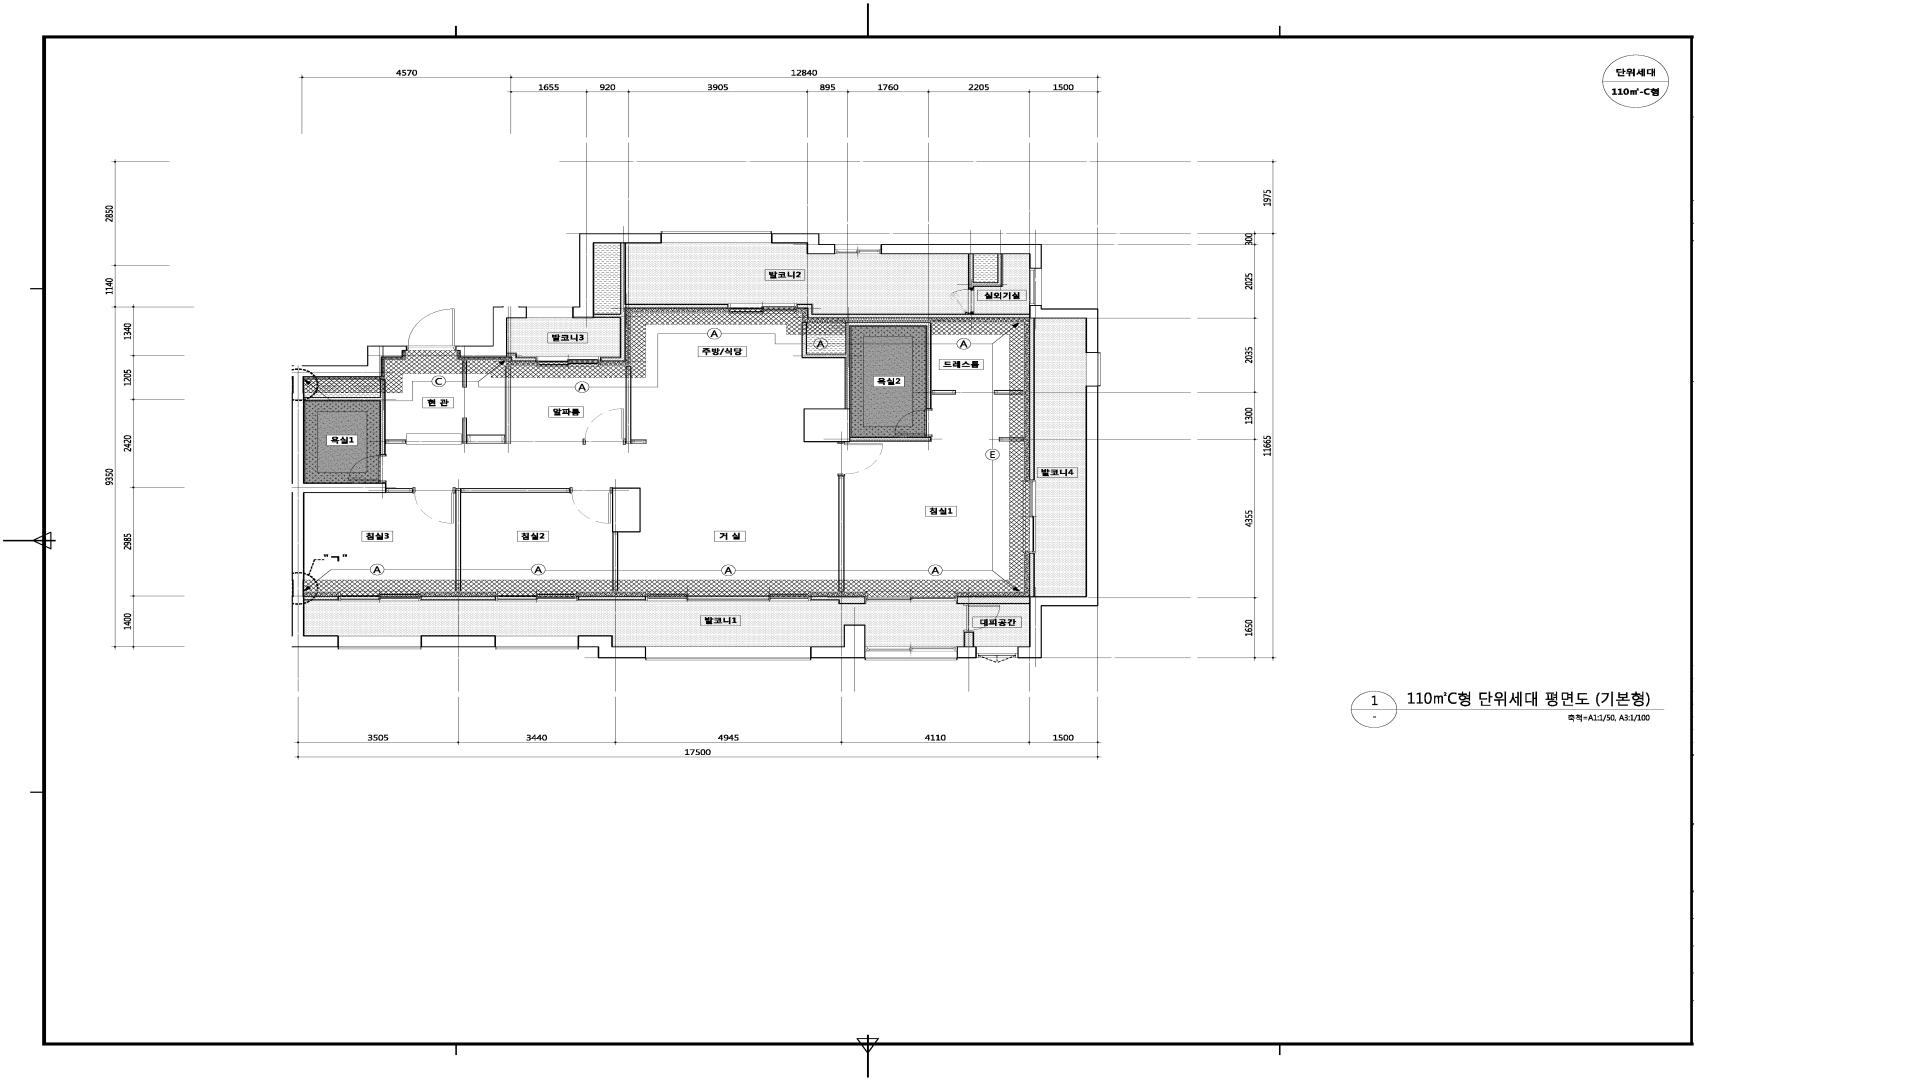door: (407, 309, 456, 351), (837, 442, 884, 476), (413, 487, 455, 524), (570, 487, 612, 524), (583, 409, 626, 444), (894, 409, 932, 438), (348, 454, 386, 483), (951, 287, 975, 314), (976, 653, 1018, 663)
wall: (291, 345, 407, 647), (1018, 386, 1098, 658), (593, 244, 728, 361), (802, 322, 932, 442), (455, 488, 570, 592), (572, 233, 661, 318), (305, 378, 386, 455), (881, 244, 1042, 269), (463, 367, 512, 444), (455, 306, 527, 356), (796, 303, 1029, 318), (1029, 305, 1098, 352), (612, 488, 641, 591), (811, 625, 865, 658), (625, 365, 646, 444), (579, 636, 645, 658), (771, 233, 835, 255), (968, 255, 1004, 287), (1029, 319, 1035, 480), (421, 636, 496, 647), (839, 476, 844, 592), (957, 596, 1029, 604), (811, 596, 865, 604), (421, 596, 496, 601), (578, 596, 646, 601), (1029, 553, 1035, 596), (506, 353, 537, 361), (957, 646, 976, 658), (305, 596, 339, 601), (964, 632, 975, 646), (386, 488, 413, 493), (998, 436, 1023, 442), (994, 390, 1023, 394), (385, 439, 406, 444), (463, 360, 467, 388), (932, 390, 956, 394)
window: (645, 646, 811, 661), (646, 591, 811, 601), (865, 646, 957, 661), (661, 231, 771, 243), (496, 636, 579, 649), (338, 636, 421, 649), (865, 591, 957, 601), (496, 591, 578, 601), (339, 591, 421, 601), (1023, 480, 1035, 553), (728, 303, 796, 314), (537, 356, 600, 367), (1087, 352, 1101, 386), (835, 244, 881, 255), (526, 307, 572, 318), (1029, 269, 1042, 305)
